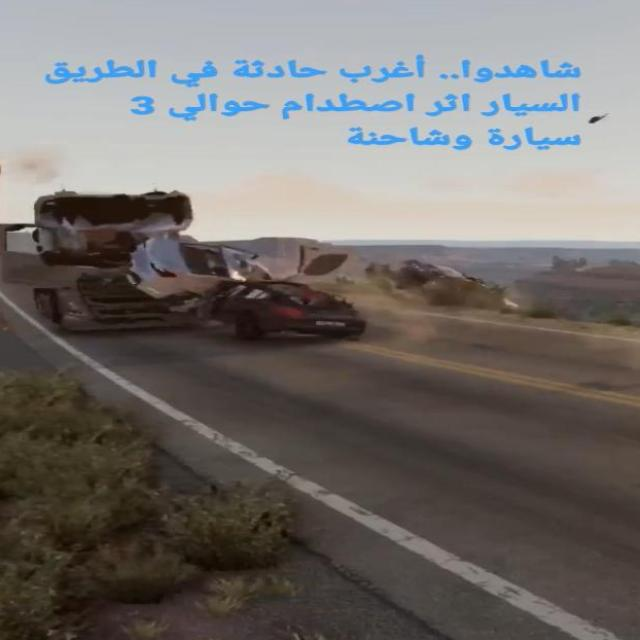accident: (0, 182, 401, 343)
